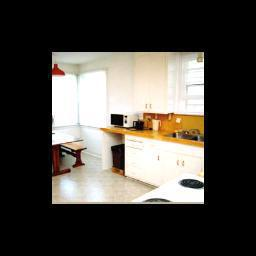Bote de Basura: (110, 144, 125, 175)
Electrodomestico: (130, 174, 203, 201)
Lavaplatos: (161, 126, 201, 144)
